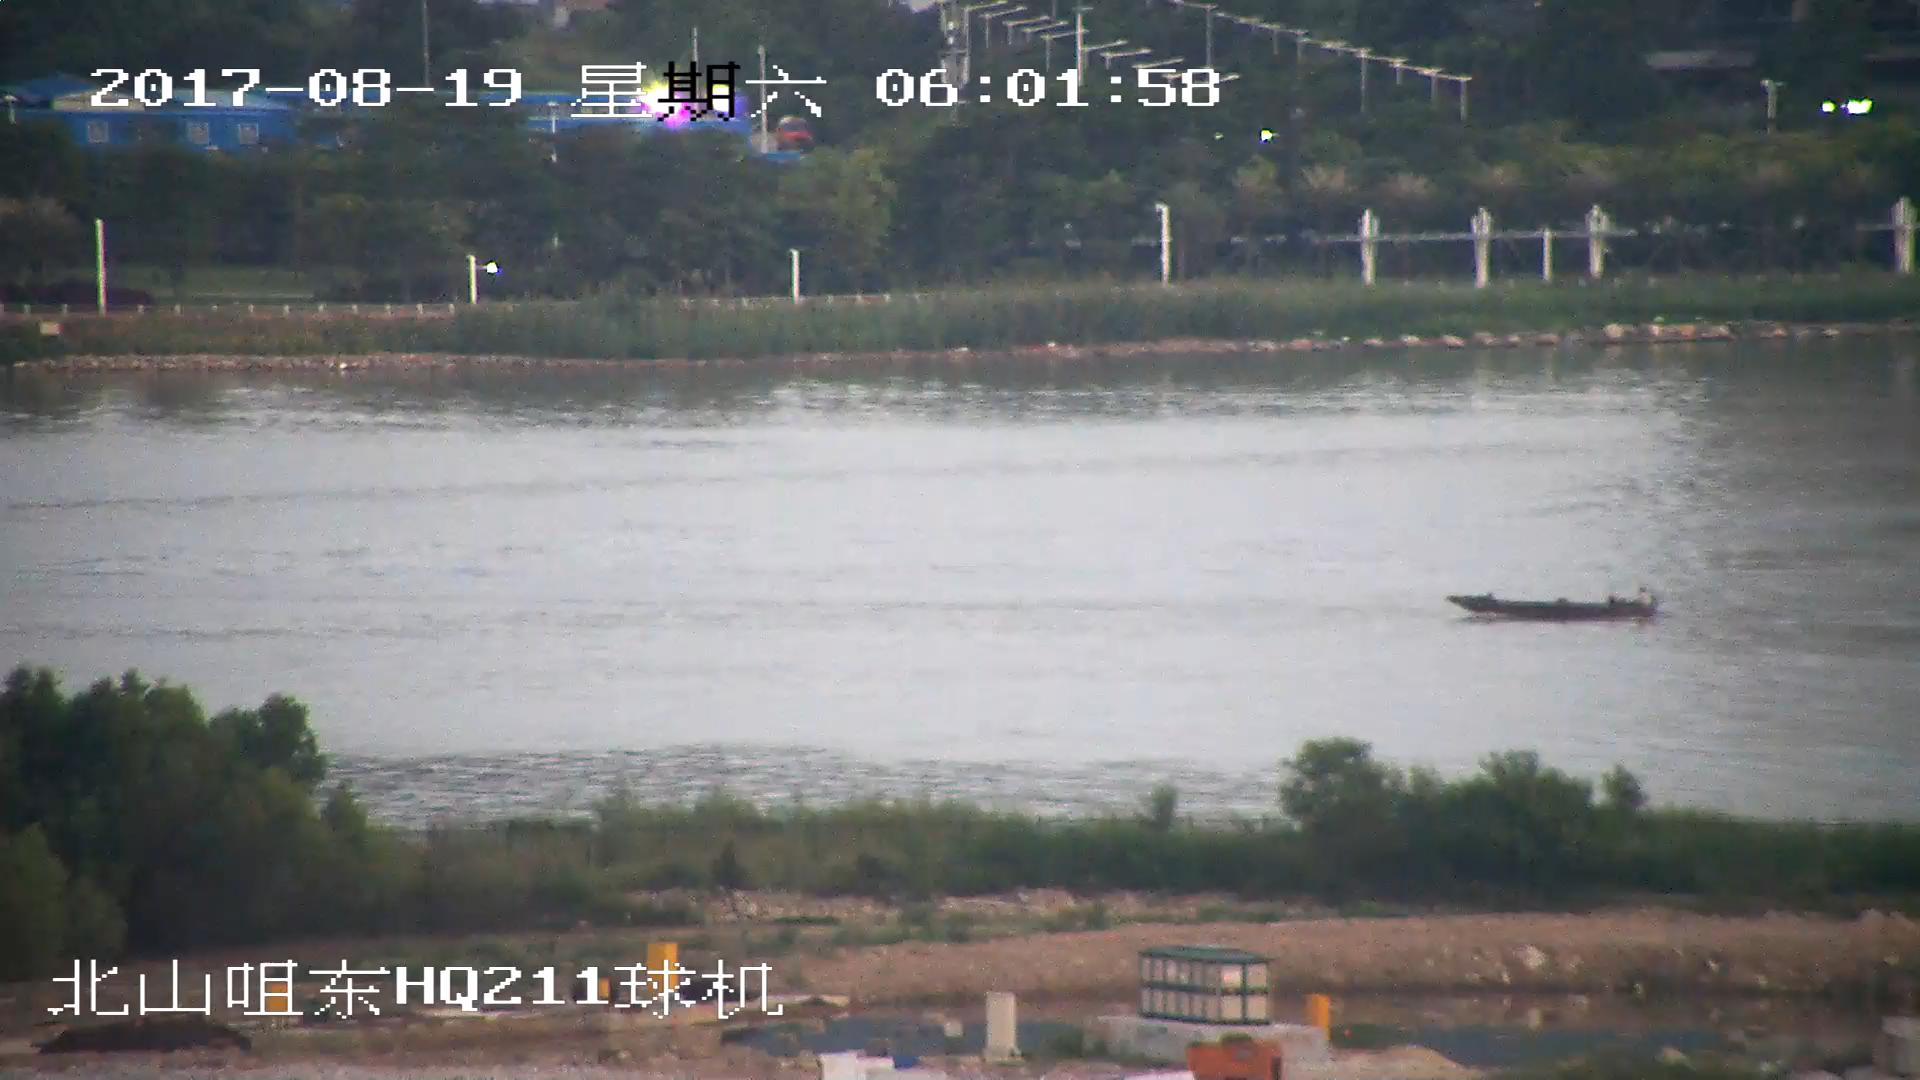fishing boat: (1442, 586, 1663, 618)
